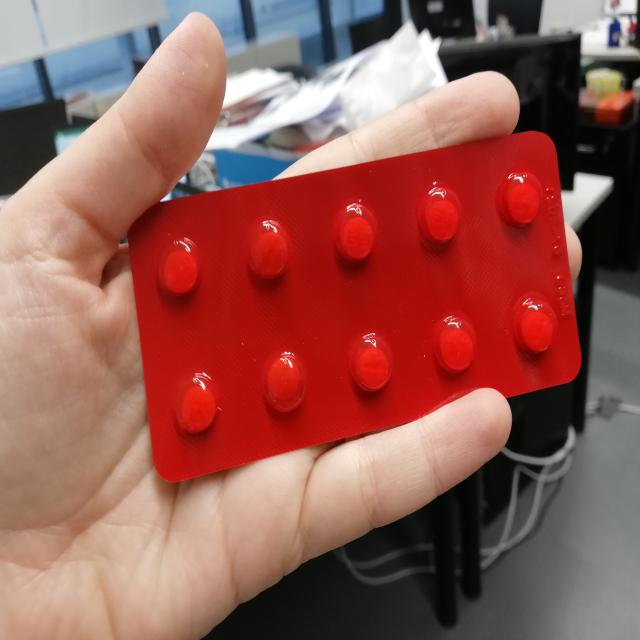Pill: (161, 358, 229, 444), (344, 322, 408, 408), (233, 211, 300, 291), (325, 189, 385, 276), (257, 341, 324, 416), (146, 234, 211, 308), (496, 159, 550, 243), (409, 182, 466, 256), (508, 285, 557, 363), (430, 311, 480, 383)
